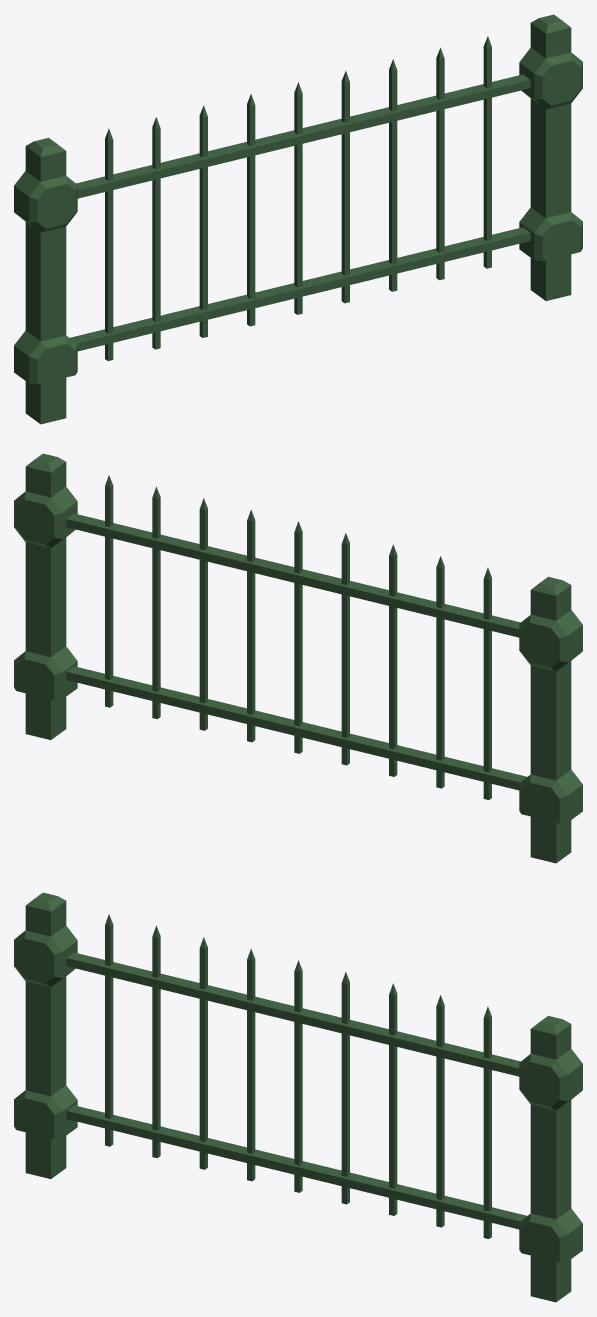
Rendered from fence2.fbx.
The picture shows the model from 3 angles, top to bottom: view 1: azimuth 30°, elevation 25°; view 2: azimuth 150°, elevation 25°; view 3: azimuth 330°, elevation 25°; orthographic projection.
Parts seen in each view (by area): view 1: MESH; view 2: MESH; view 3: MESH.
Part boxes in pixels (x1=…): MESH: x1=14, y1=14, x2=582, y2=424; MESH: x1=14, y1=453, x2=582, y2=863; MESH: x1=14, y1=892, x2=582, y2=1302.
Bounding box in the file's own units: 224 × 106 × 14.92.
